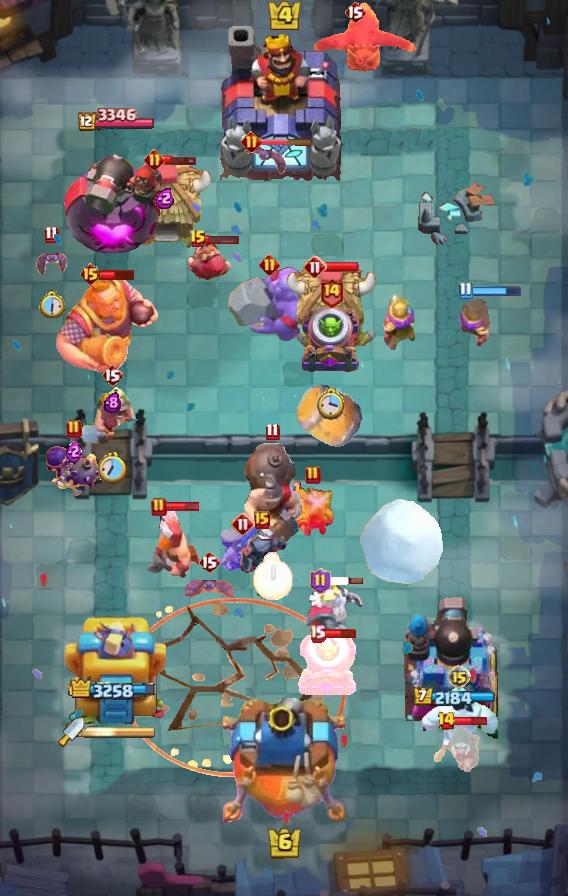archer-queen: (225, 266, 313, 346)
arrows: (219, 527, 267, 573)
bandit: (78, 381, 146, 447)
bar: (62, 611, 166, 731)
barbarian-barrel: (242, 144, 288, 178), (182, 577, 236, 599), (34, 249, 68, 277)
battle-ram: (236, 532, 288, 576)
bomb-tower: (455, 289, 497, 351), (383, 292, 415, 352)
bowler: (185, 240, 233, 282)
dirt: (295, 380, 365, 450)
electro-spirit: (155, 187, 175, 209), (66, 439, 82, 463), (103, 392, 121, 413)
elixir: (251, 552, 292, 600), (317, 388, 345, 420), (98, 452, 126, 484), (38, 290, 65, 319)
emote: (470, 285, 522, 297), (259, 137, 313, 147), (99, 268, 136, 281), (162, 154, 198, 166), (324, 261, 360, 273), (454, 715, 490, 727), (204, 234, 240, 245), (165, 500, 200, 511), (323, 628, 357, 639), (328, 576, 364, 586)
giant-skeleton: (54, 274, 160, 376)
goblin-ball: (44, 444, 104, 500)
goblin-cage: (299, 305, 363, 375), (295, 629, 359, 699)
guard: (122, 598, 346, 777)
king-tower: (219, 21, 349, 181), (223, 698, 345, 826)
king-tower-bar: (84, 725, 156, 739)
mighty-miner: (144, 508, 202, 580)
mortar-evolution: (303, 578, 367, 650)
mother-witch: (314, 0, 424, 78)
prince: (118, 161, 212, 251), (286, 263, 380, 353)
rage: (418, 686, 500, 752)
selected: (70, 677, 158, 703), (74, 108, 154, 133), (413, 687, 496, 709)
tesla: (434, 723, 482, 775)
text: (320, 277, 344, 308), (303, 255, 327, 279), (231, 512, 255, 536), (447, 665, 471, 689), (79, 262, 102, 286), (309, 568, 330, 594), (344, 0, 366, 24), (101, 363, 123, 387), (198, 550, 220, 574), (241, 131, 263, 153), (259, 253, 280, 275), (144, 149, 165, 170), (436, 711, 455, 731), (189, 229, 207, 249), (309, 624, 327, 643), (66, 419, 82, 439), (305, 465, 321, 485), (151, 497, 167, 517), (254, 511, 270, 529), (44, 225, 59, 244), (459, 281, 474, 300), (264, 423, 279, 441)
tombstone: (290, 479, 336, 541)
tower-bar: (404, 593, 502, 731), (64, 138, 164, 256)
wall-breaker: (358, 499, 444, 586)
wizard: (240, 442, 304, 560)
